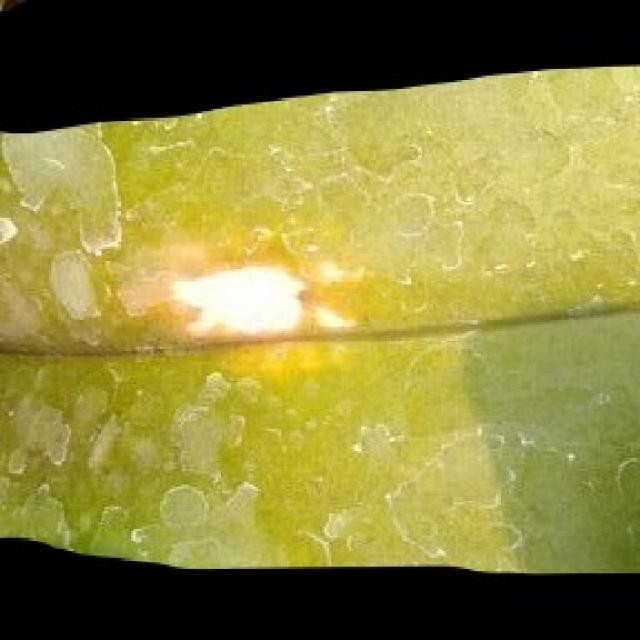mite: (464, 291, 638, 567), (7, 398, 71, 467), (156, 480, 209, 529), (0, 209, 18, 251)
